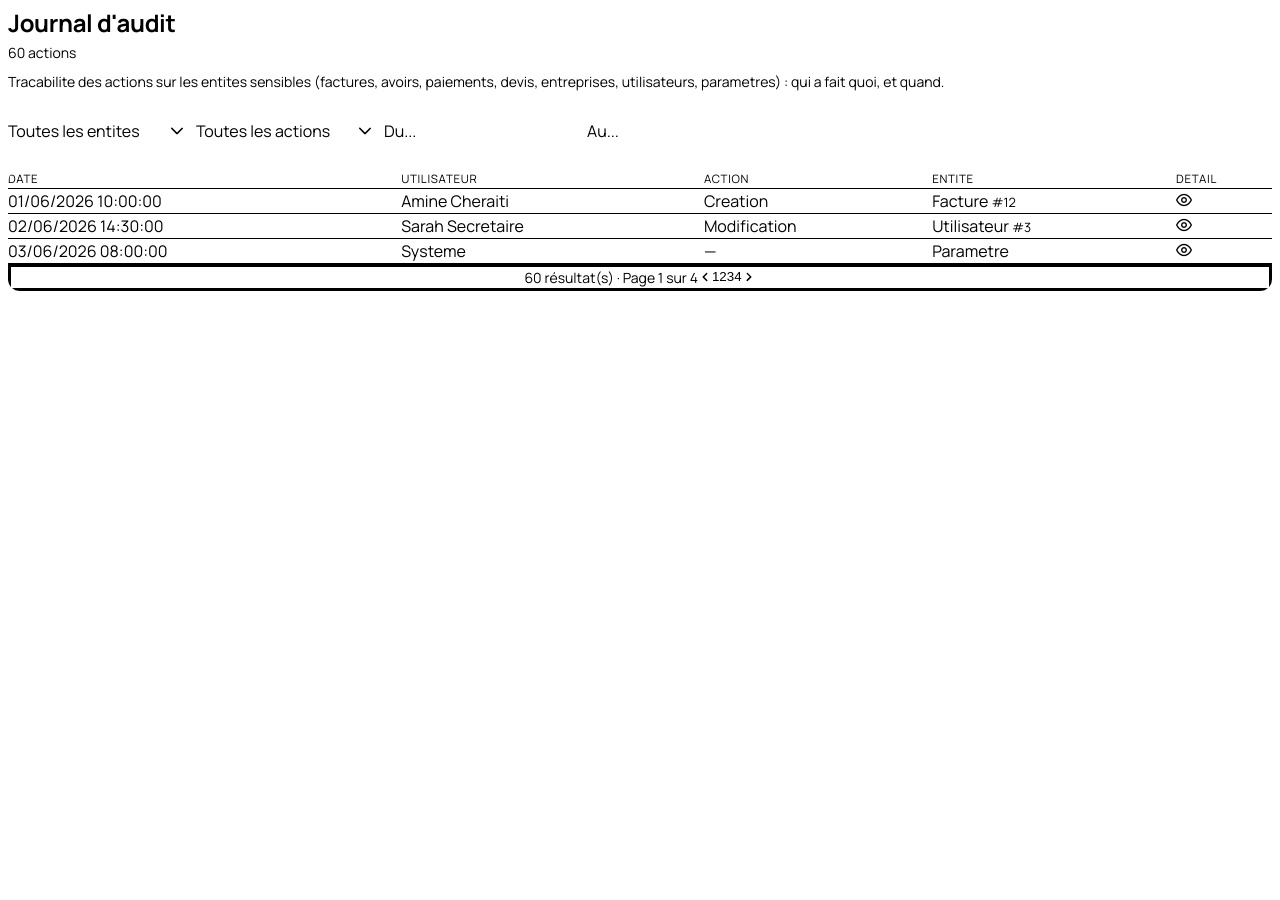
AuditLogPage — dialog detail › affiche un message quand l action n a aucun detail de champ
The image size is (1280, 900).
Click the button named "Voir le detail de l'action du 03/06/2026 08:00:00" at (1184, 250), box [1176, 239, 1192, 261]
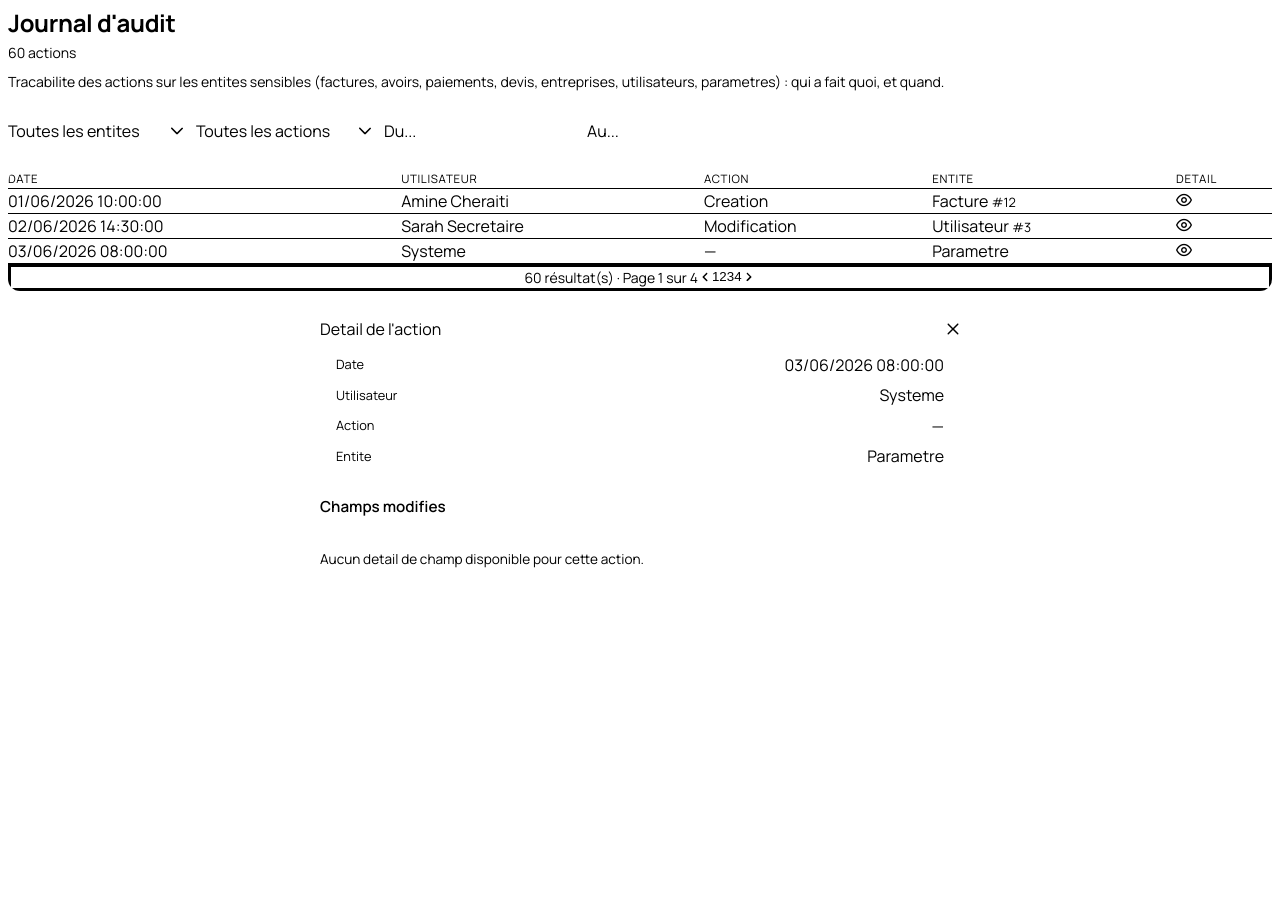
Check: the text "Systeme" is shown, box [401, 239, 704, 264]
Check: the text "Aucun detail de champ disponible pour cette action." is shown, box [320, 550, 644, 568]
